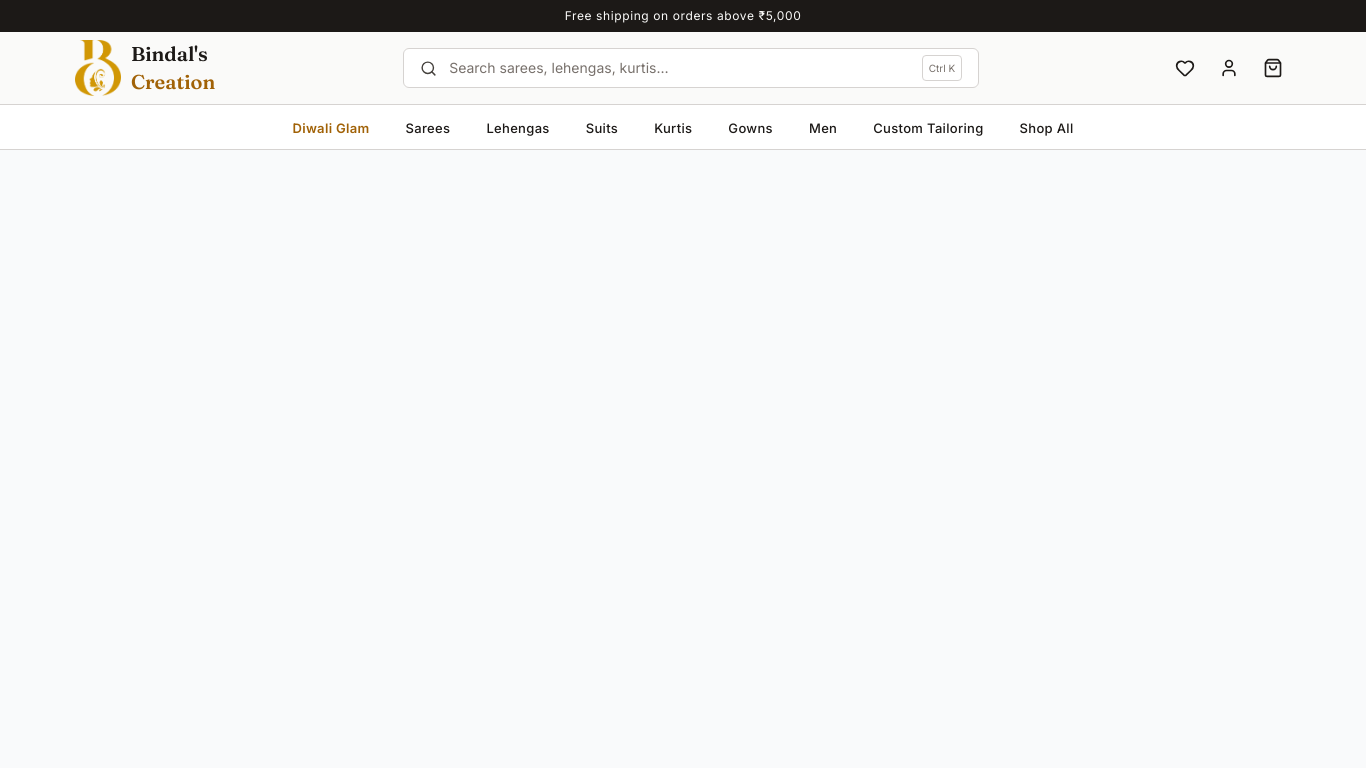
Test: StorefrontHeader › opens the search overlay from the search box
What coordinates should you click on to do the following:
click the button "Search sarees, lehengas, kurtis… Ctrl K"
I would click on:
 (559, 68)
Its box is [403,48,979,88].
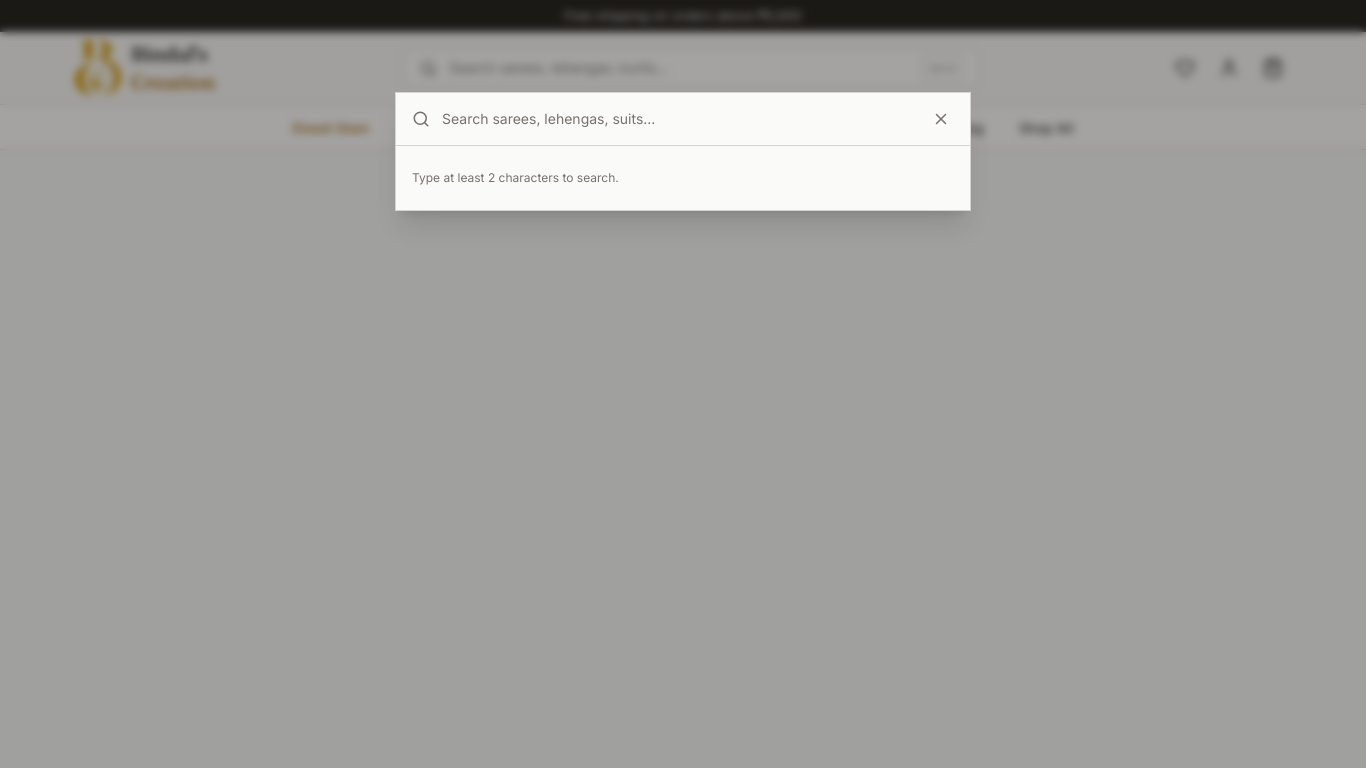
Check: the dialog named "search products" is shown
